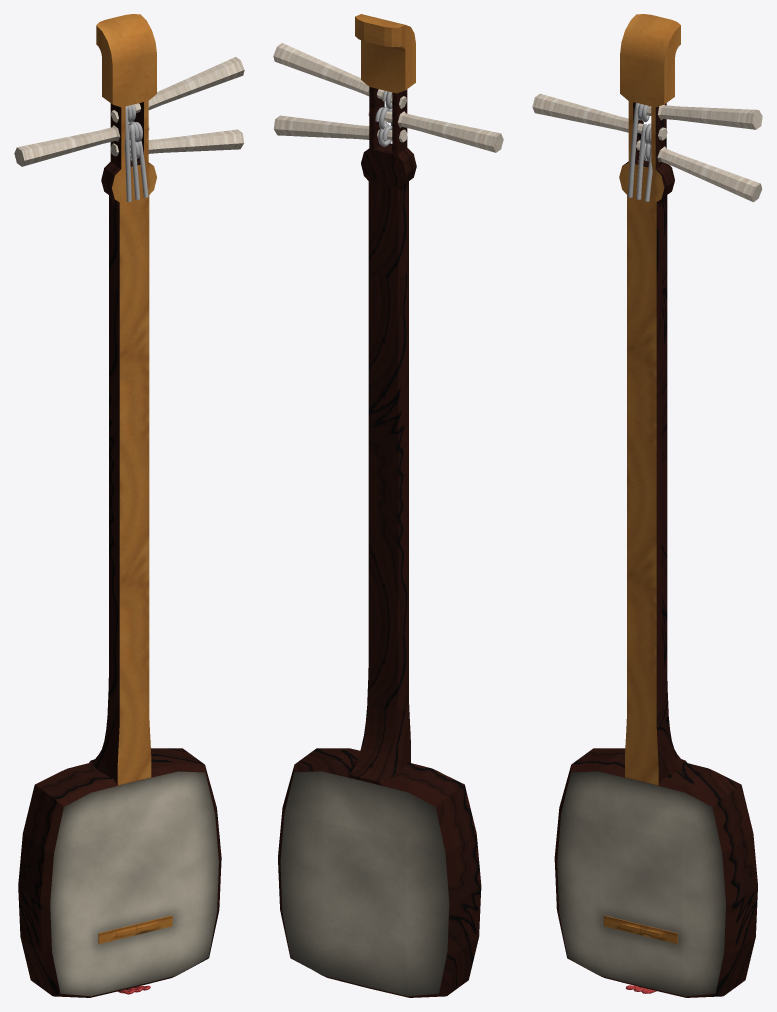
File: Shamisen.fbx
The picture shows the model from 3 angles, left to right: view 1: azimuth 30°, elevation 25°; view 2: azimuth 150°, elevation 25°; view 3: azimuth 330°, elevation 25°; orthographic projection.
Visible parts, largest first — view 1: Cube; view 2: Cube; view 3: Cube.
Boxes of the visible parts, x1,y1,x2,y2 form: Cube: [14, 14, 244, 997]; Cube: [273, 14, 503, 997]; Cube: [532, 14, 762, 997].
Bounding box in the file's own units: 13.11 × 54.47 × 3.66.
1 material, 1 textured.
